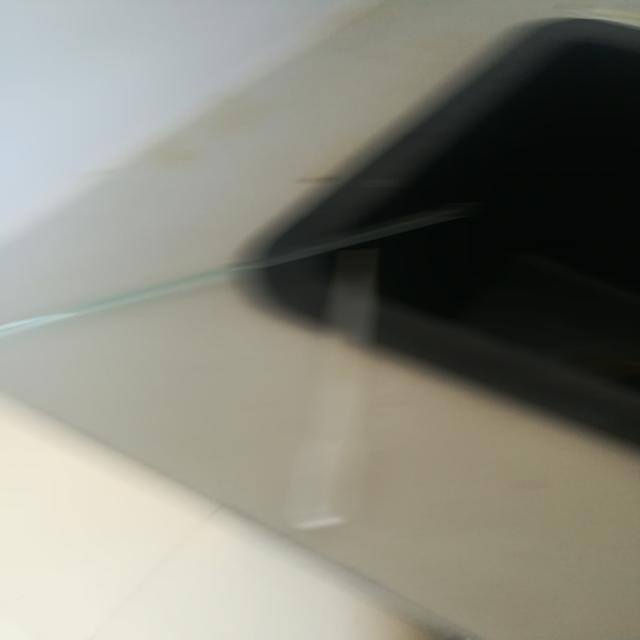Glass_Rod: (0, 180, 523, 352)
Pipette: (266, 240, 435, 566)
